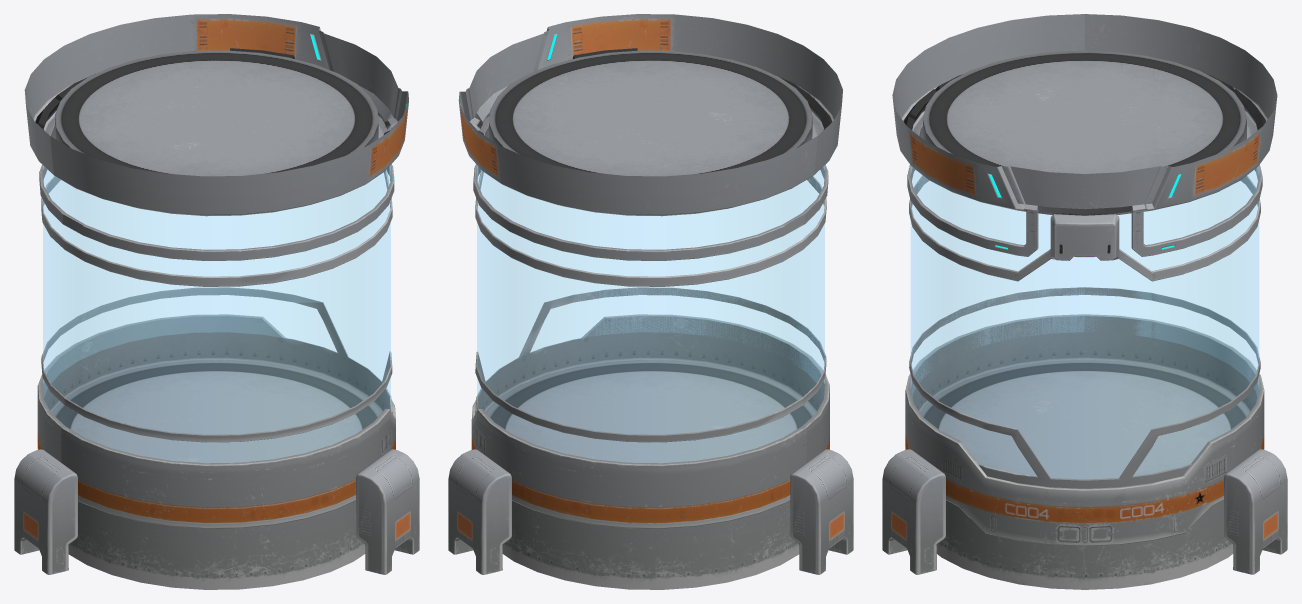
3 views of the same model, side by side, from view 1: azimuth 30°, elevation 25°; view 2: azimuth 150°, elevation 25°; view 3: azimuth 270°, elevation 25° (orthographic).
Parts seen in each view (by area): view 1: SM_vat_large_caps_low, SM_vat_large_glass, vatlarge_buffer_low, vatlarge_buffer_low1, SM_vat_large_topdetail_low, SM_vat_large_toprail_low; view 2: SM_vat_large_caps_low, SM_vat_large_glass, vatlarge_buffer_low, vatlarge_buffer_low2, SM_vat_large_topdetail_low, SM_vat_large_toprail_low; view 3: SM_vat_large_caps_low, SM_vat_large_glass, SM_vat_large_toprail_low, vatlarge_buffer_low1, vatlarge_buffer_low2, SM_vat_large_topdetail_low.
Boxes of the visible parts, bbox=[...] form: SM_vat_large_caps_low: bbox=[24, 14, 408, 589]; SM_vat_large_glass: bbox=[43, 165, 390, 462]; vatlarge_buffer_low: bbox=[14, 449, 77, 574]; vatlarge_buffer_low1: bbox=[356, 449, 419, 574]; SM_vat_large_topdetail_low: bbox=[39, 120, 394, 260]; SM_vat_large_toprail_low: bbox=[41, 114, 392, 286]; SM_vat_large_caps_low: bbox=[458, 14, 842, 589]; SM_vat_large_glass: bbox=[477, 165, 824, 462]; vatlarge_buffer_low: bbox=[790, 449, 853, 574]; vatlarge_buffer_low2: bbox=[448, 449, 511, 574]; SM_vat_large_topdetail_low: bbox=[473, 120, 828, 260]; SM_vat_large_toprail_low: bbox=[475, 114, 826, 286]; SM_vat_large_caps_low: bbox=[892, 14, 1277, 589]; SM_vat_large_glass: bbox=[911, 166, 1258, 478]; SM_vat_large_toprail_low: bbox=[909, 175, 1260, 281]; vatlarge_buffer_low1: bbox=[882, 449, 945, 574]; vatlarge_buffer_low2: bbox=[1224, 449, 1287, 574]; SM_vat_large_topdetail_low: bbox=[907, 164, 1262, 256].
Bounding box in the file's own units: 11.5 × 13.35 × 11.62.
Materials: 5 (2 with a texture image).
